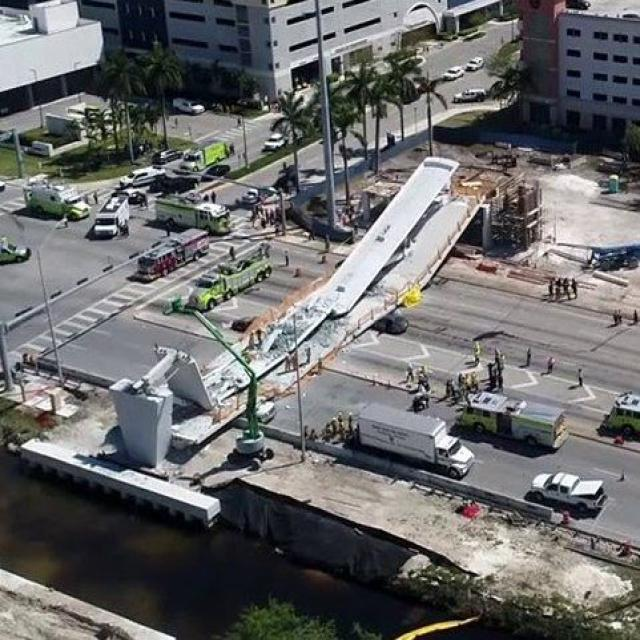collapsed_building: (120, 150, 458, 466)
